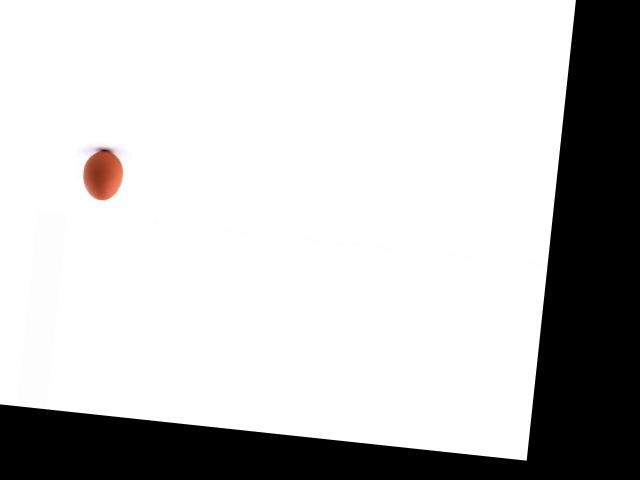egg: (79, 148, 124, 202)
